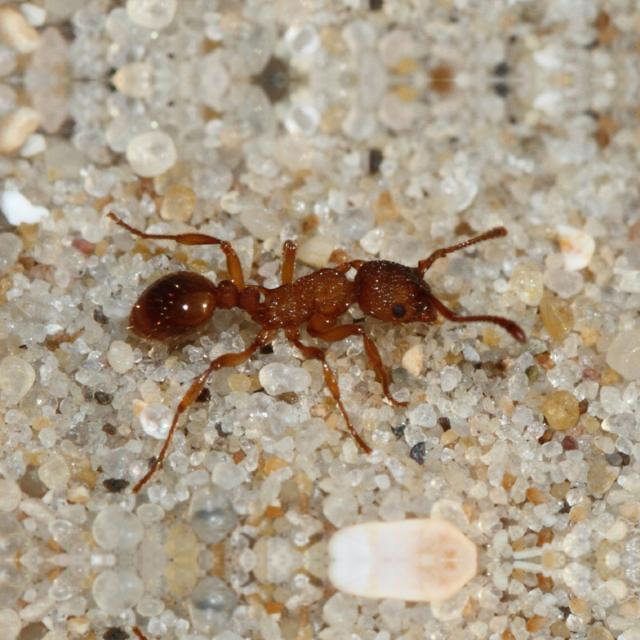Myrmica: (157, 185, 506, 393)
